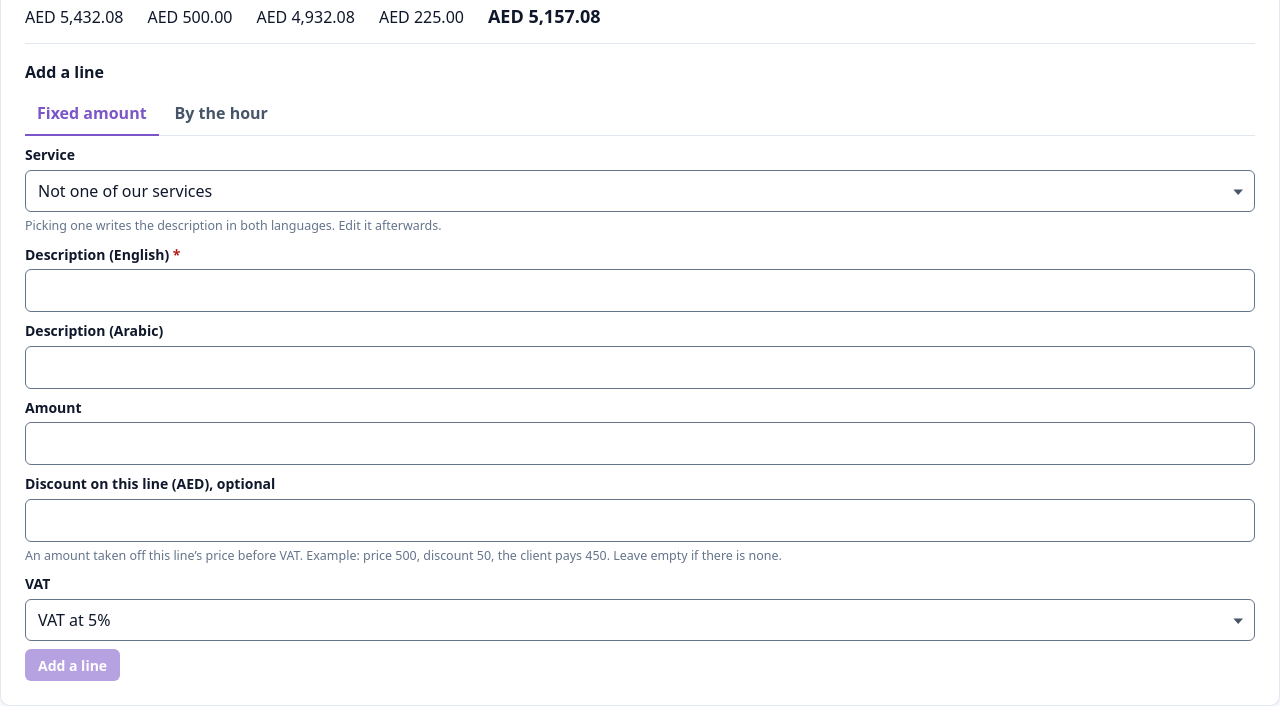
Scenario: while it is a draft › accepts a line described only in Arabic
(page scrolled)
Type "مسك الدفاتر" into the field labelled "Description (Arabic)" at (640, 367), box x1=25 y1=346 x2=1255 y2=389
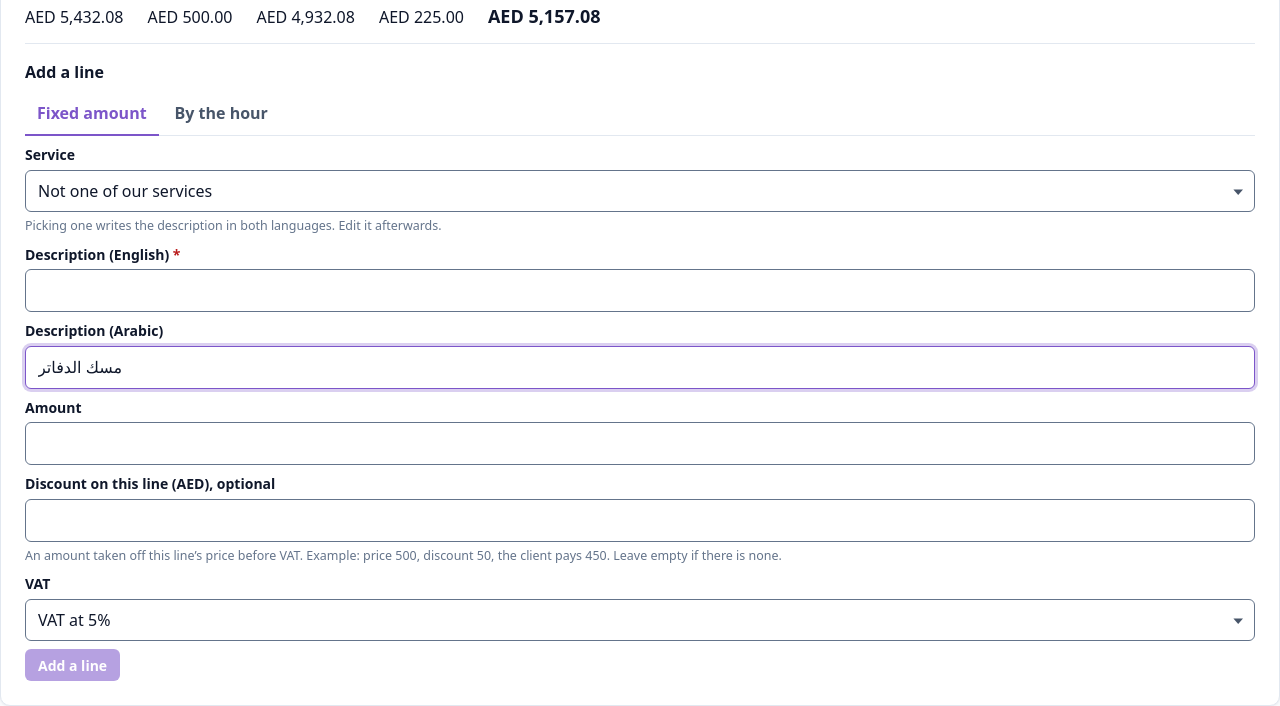
Type "100" into the field labelled "Amount" at (640, 444), box x1=25 y1=422 x2=1255 y2=465
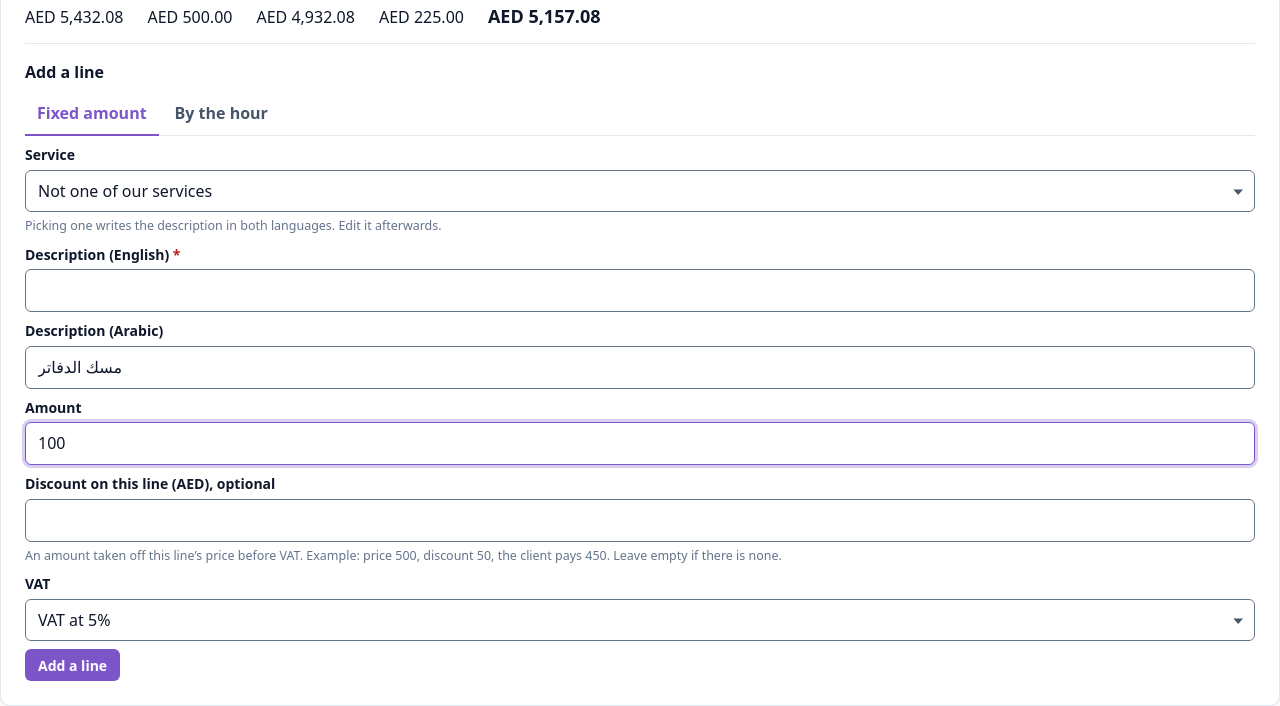
Now the button "Add a line" is enabled, box x1=25 y1=650 x2=120 y2=682
